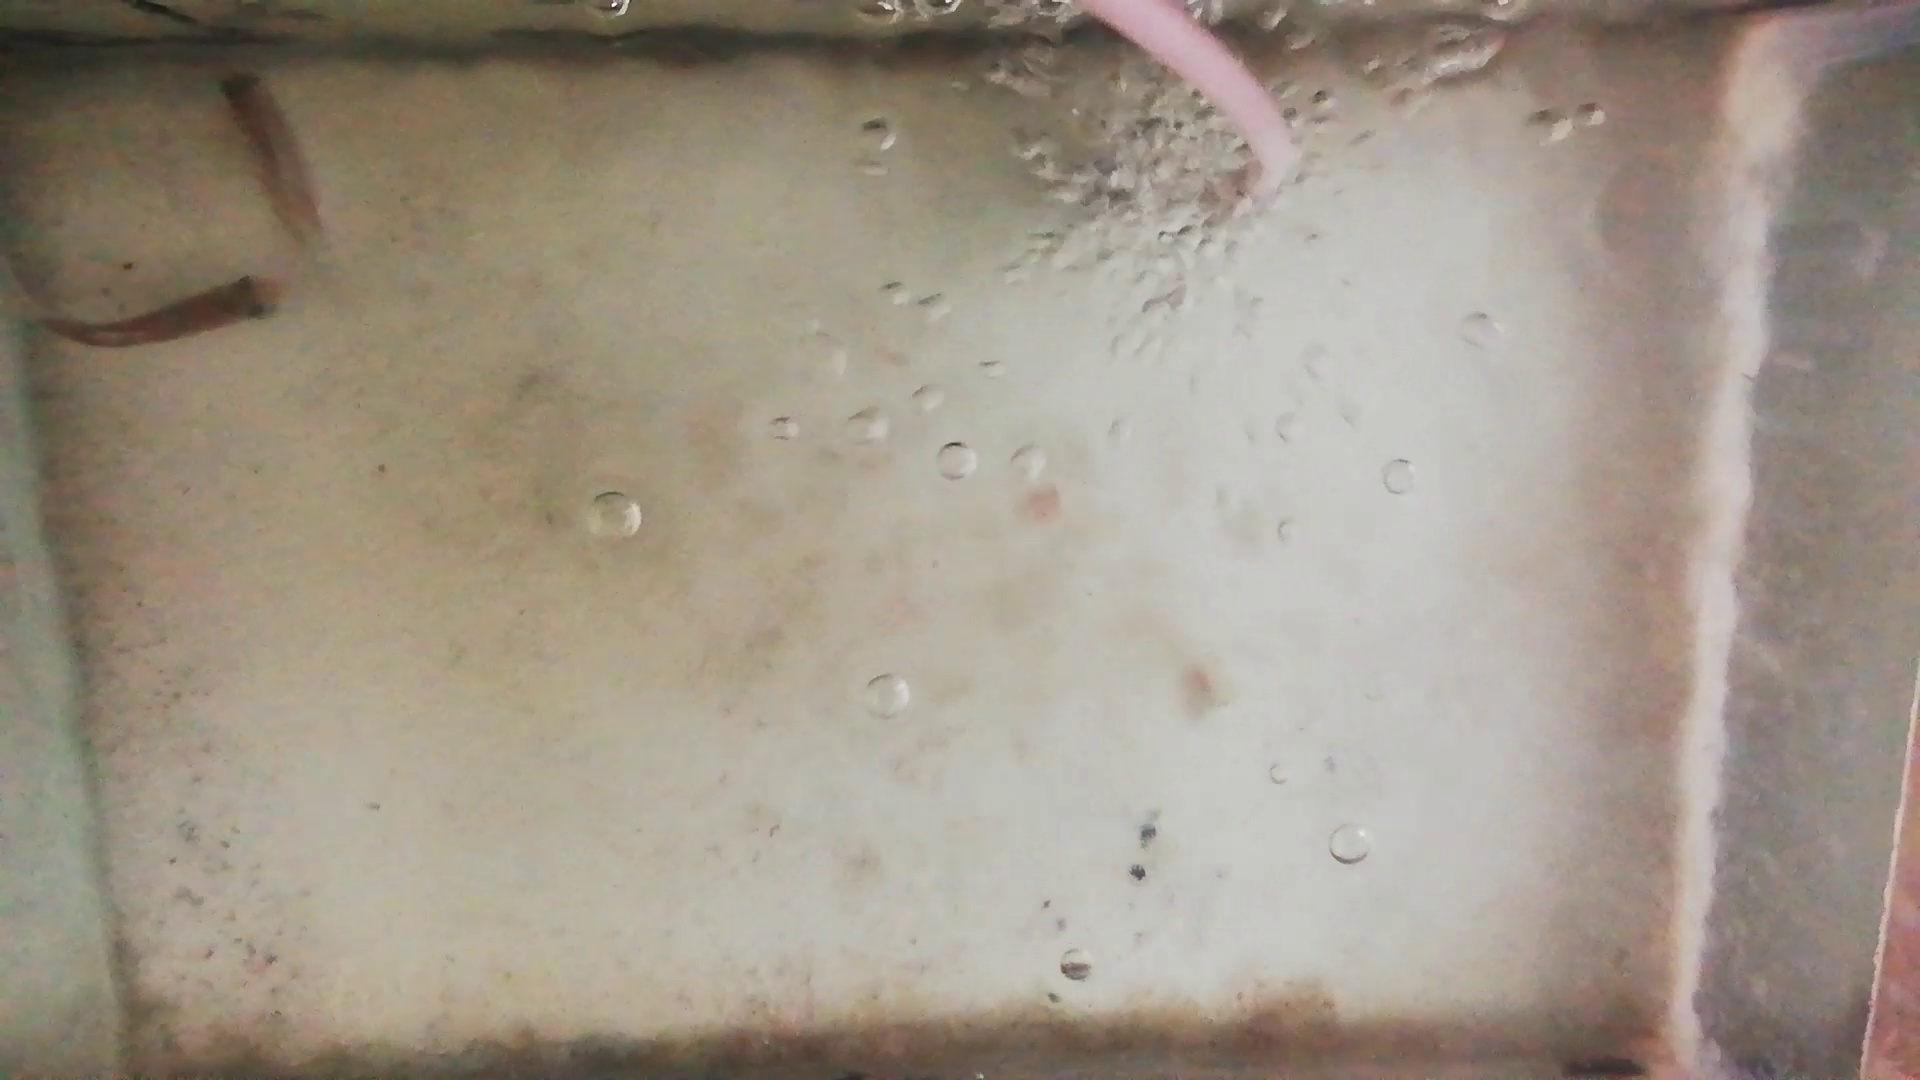fish: (34, 274, 286, 347), (222, 66, 315, 218)
